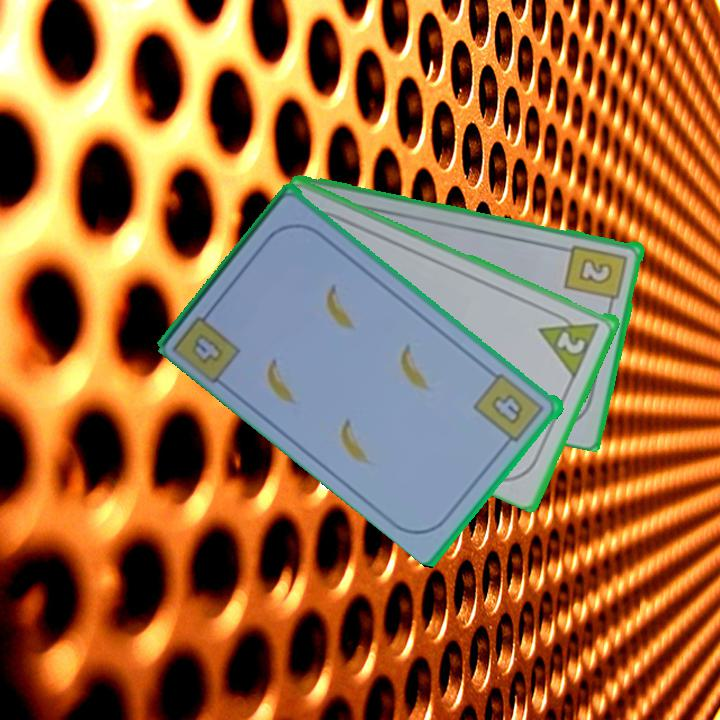2b: (562, 240, 631, 311)
2p: (553, 327, 589, 357)
4b: (170, 301, 245, 385), (471, 370, 548, 450)
